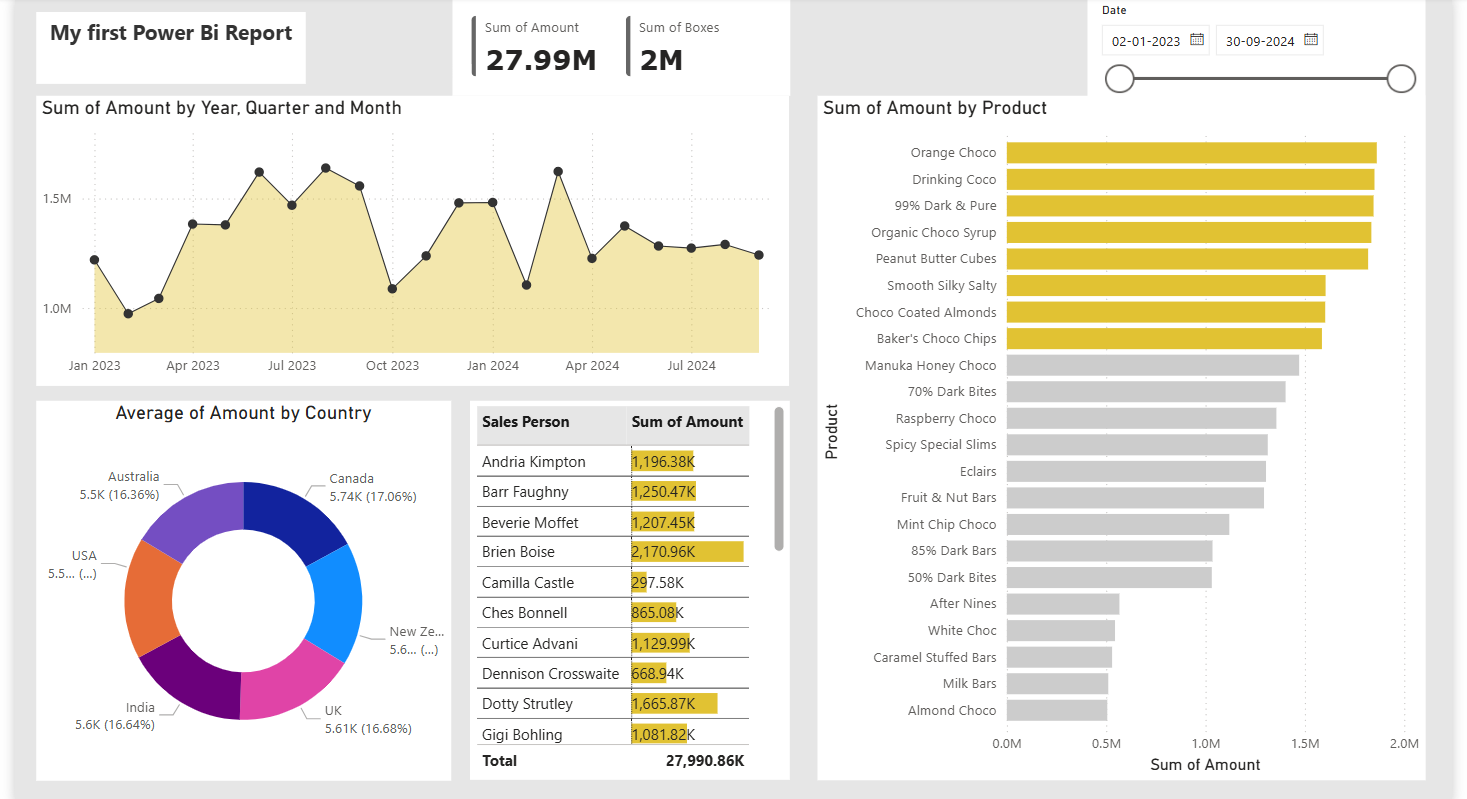

The page's visual inventory and layout, read from the dashboard file:
{"tool":"powerbi","page":{"name":"Page 1","canvas":[1280,720],"ordinal":0},"visuals":[{"type":"lineChart","fields":{"Category":["data.Date.Variation.Date Hierarchy.Year","data.Date.Variation.Date Hierarchy.Quarter","data.Date.Variation.Date Hierarchy.Month","data.Date.Variation.Date Hierarchy.Day"],"Y":["data.Amount"]},"box":[19.3,88.1,670.8,258.2],"z":0},{"type":"donutChart","fields":{"Category":["data.Country"],"Y":["data.Amount"]},"box":[19.3,359.5,369.2,337.8],"z":1000},{"type":"tableEx","fields":{"Values":["data.Sales Person","data.Amount"]},"box":[405.4,359.5,284.7,337.8],"z":2000},{"type":"clusteredBarChart","fields":{"Category":["data.Product"],"Y":["data.Amount"]},"box":[714.2,88.1,541.7,609.3],"z":3000},{"type":"cardVisual","fields":{"Data":["data.Amount","data.Boxes"]},"box":[389.7,0,300.4,88.1],"z":4000},{"type":"slicer","fields":{"Values":["data.Date"]},"box":[955.5,0,300.4,88.1],"z":5000},{"type":"textbox","box":[19.3,13.3,240.1,63.9],"z":6000}]}

Visuals, with their boxes on the page's 1280x720 design canvas (x1, y1, x2, y2). These are canvas units, not pixel positions in the 1467x799 screenshot, which may show the page scaled, cropped or inside an application window:
lineChart - data.Date.Variation.Date Hierarchy.Year x data.Date.Variation.Date Hierarchy.Quarter: (x1=19, y1=88, x2=690, y2=346)
donutChart - data.Country x data.Amount: (x1=19, y1=360, x2=388, y2=697)
tableEx - data.Sales Person x data.Amount: (x1=405, y1=360, x2=690, y2=697)
clusteredBarChart - data.Product x data.Amount: (x1=714, y1=88, x2=1256, y2=697)
cardVisual - data.Amount x data.Boxes: (x1=390, y1=0, x2=690, y2=88)
slicer - data.Date: (x1=956, y1=0, x2=1256, y2=88)
textbox: (x1=19, y1=13, x2=259, y2=77)
